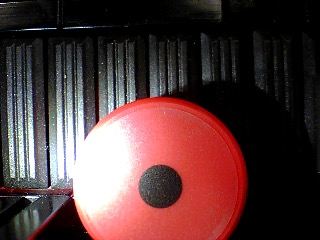BOHO: (72, 97, 248, 240)
